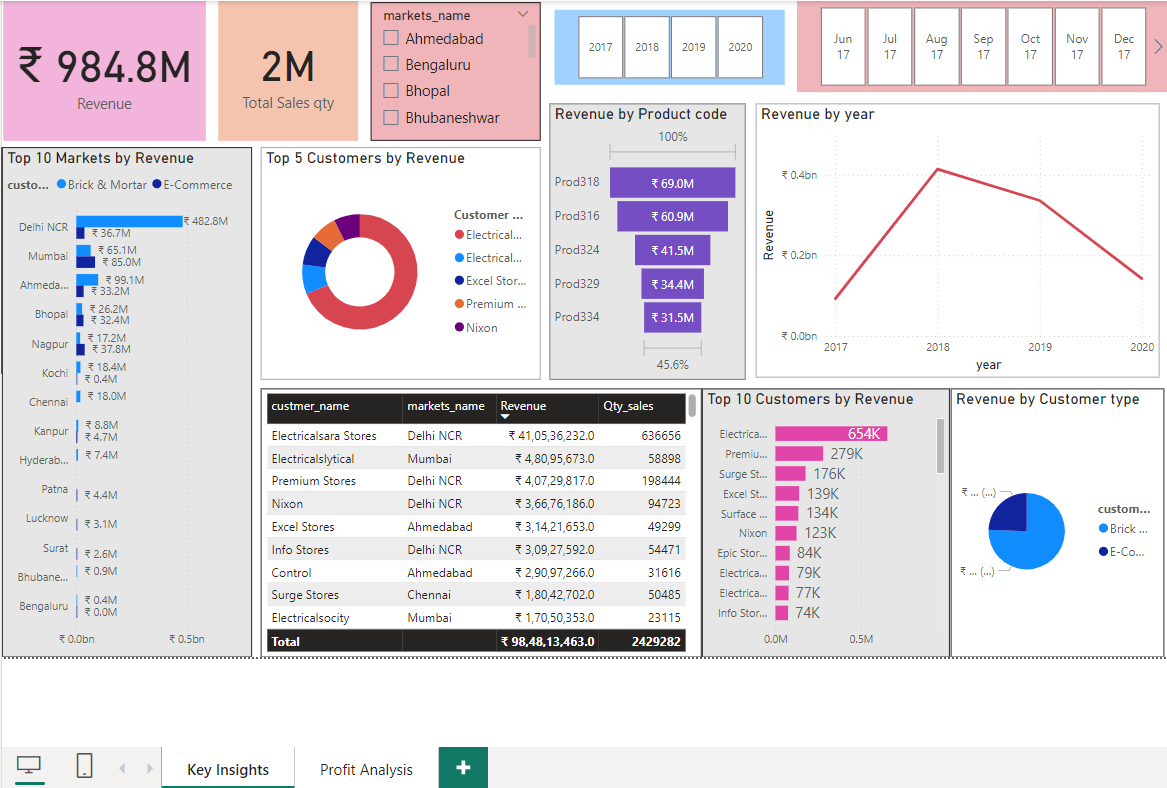

The dashboard page shown, as its layout file describes it:
{"tool":"powerbi","page":{"name":"Key Insights","canvas":[1280,720],"ordinal":0},"visuals":[{"type":"card","fields":{"Values":["sales transactions.Revenue"]},"box":[1.4,0,222.3,153.7],"z":0},{"type":"card","fields":{"Values":["sales transactions.Total Sales qty"]},"box":[237.4,0,153.7,153.7],"z":1000},{"type":"slicer","fields":{"Values":["sales date.cy_date"]},"box":[872.7,0,407.5,100.2],"z":2000},{"type":"donutChart","title":"Top 5 Customers by Revenue","fields":{"Category":["sales customers.custmer_name"],"Y":["sales transactions.Revenue"]},"box":[284,160.5,307.4,255.2],"z":3000},{"type":"barChart","title":"Top 10 Customers by Revenue","fields":{"Y":["sales transactions.Qty_sales"],"Category":["sales customers.custmer_name"]},"box":[768.4,425,271.7,295],"z":4000},{"type":"slicer","fields":{"Values":["sales date.year"]},"box":[606.5,9.6,252.5,82.3],"z":6000},{"type":"funnel","title":"Revenue by Product code","fields":{"Category":["sales transactions.product_code"],"Y":["sales transactions.Revenue"]},"box":[601,112.5,215.4,303.3],"z":7000},{"type":"lineChart","fields":{"Y":["sales transactions.Revenue"],"Category":["sales date.year"]},"box":[827.4,112.5,443.2,300.5],"z":8000},{"type":"clusteredBarChart","title":"Top 10 Markets by Revenue","fields":{"Category":["sales markets.markets_name"],"Y":["sales transactions.Revenue"],"Series":["sales customers.customer_type"]},"box":[0,160.5,274.4,559.9],"z":9000},{"type":"slicer","fields":{"Values":["sales markets.markets_name"]},"box":[404.8,1.4,186.6,152.3],"z":10000},{"type":"pieChart","title":"Revenue by Customer type","fields":{"Y":["sales transactions.Revenue"],"Category":["sales customers.customer_type"]},"box":[1041.5,425,234.6,295],"z":11000},{"type":"tableEx","title":"Top 10 Customers by Sales Quantity","fields":{"Values":["sales customers.custmer_name","sales markets.markets_name","sales transactions.Revenue","sales transactions.Qty_sales"]},"box":[284,425.4,484.4,295],"z":11001}]}

Visuals, with their boxes on the page's 1280x720 design canvas (x1, y1, x2, y2). These are canvas units, not pixel positions in the 1167x788 screenshot, which may show the page scaled, cropped or inside an application window:
card - sales transactions.Revenue: 1,0,224,154
card - sales transactions.Total Sales qty: 237,0,391,154
slicer - sales date.cy_date: 873,0,1280,100
"Top 5 Customers by Revenue" donutChart: 284,160,591,416
"Top 10 Customers by Revenue" barChart: 768,425,1040,720
slicer - sales date.year: 606,10,859,92
"Revenue by Product code" funnel: 601,112,816,416
lineChart - sales transactions.Revenue x sales date.year: 827,112,1271,413
"Top 10 Markets by Revenue" clusteredBarChart: 0,160,274,720
slicer - sales markets.markets_name: 405,1,591,154
"Revenue by Customer type" pieChart: 1042,425,1276,720
"Top 10 Customers by Sales Quantity" tableEx: 284,425,768,720
